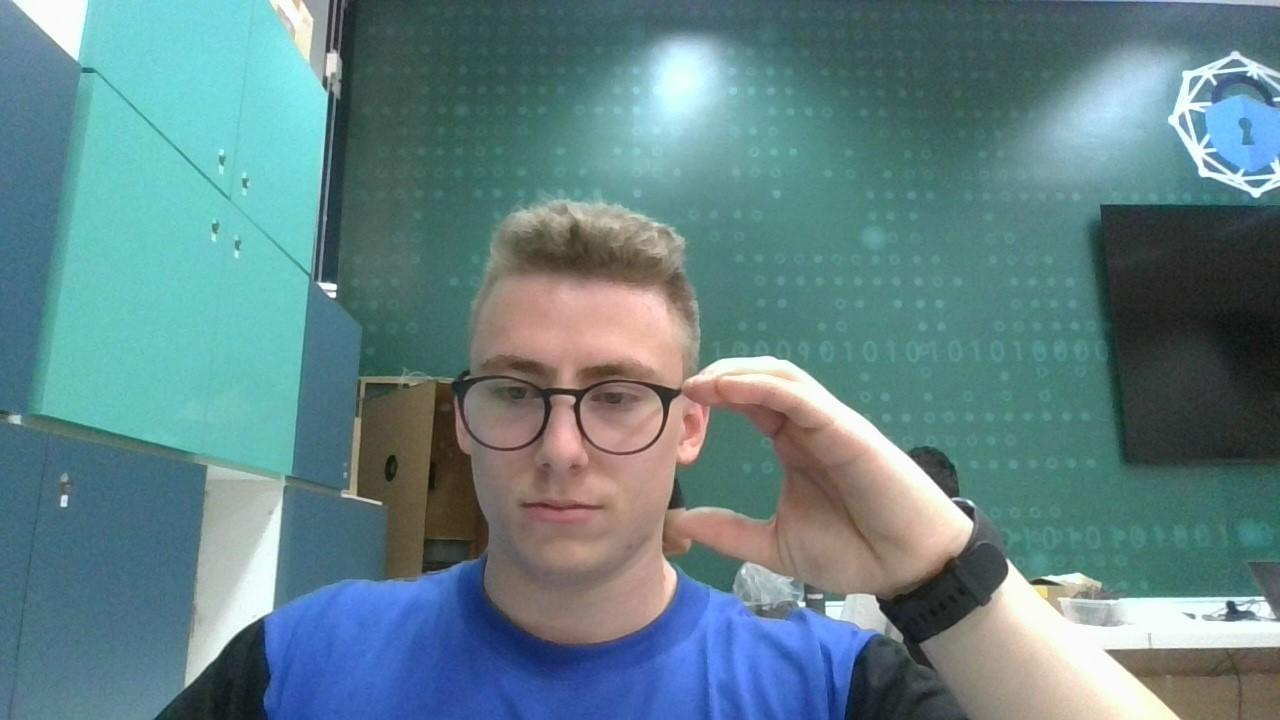C: (676, 352, 946, 588)
